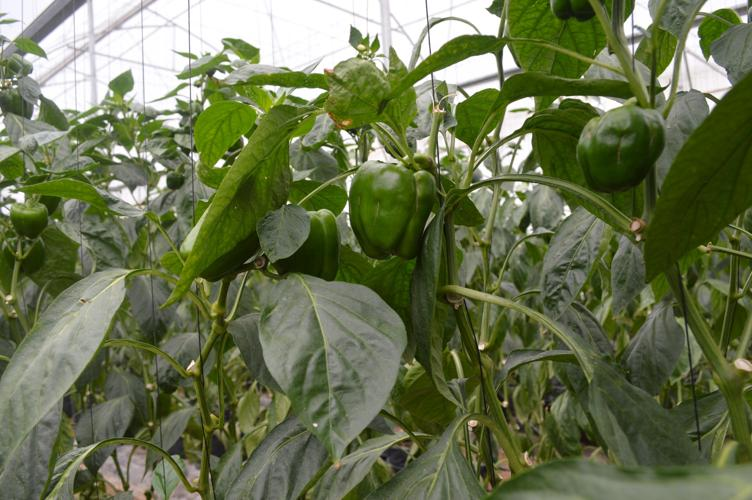BellPepper: (345, 158, 444, 277), (575, 98, 676, 190), (273, 212, 355, 297)
